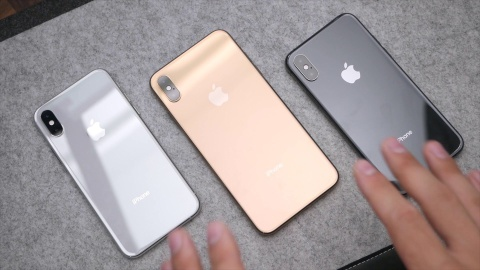apple: (333, 52, 363, 96), (201, 82, 238, 113), (82, 117, 115, 145)
